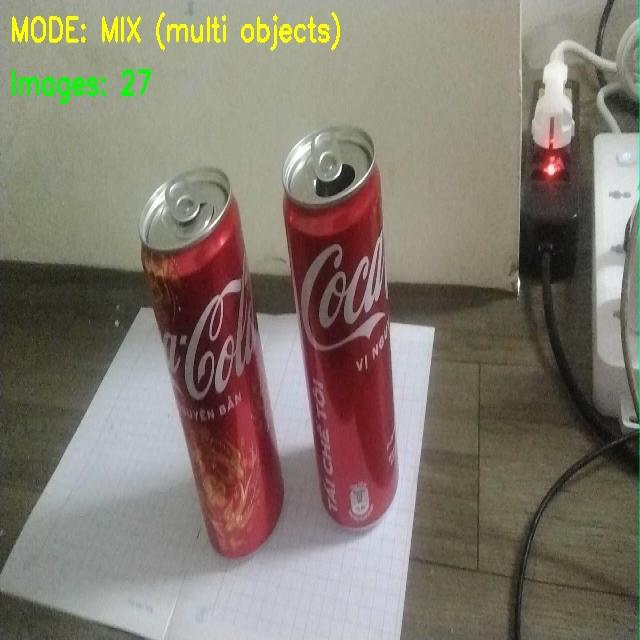Coca: (114, 151, 284, 572)
Coca_open: (286, 128, 440, 560)
